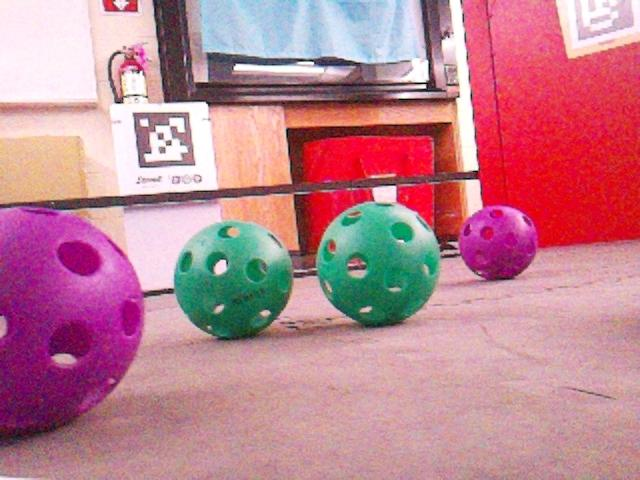Green: (314, 200, 441, 326), (172, 219, 294, 338)
Purple: (0, 208, 145, 438), (457, 203, 539, 280)
